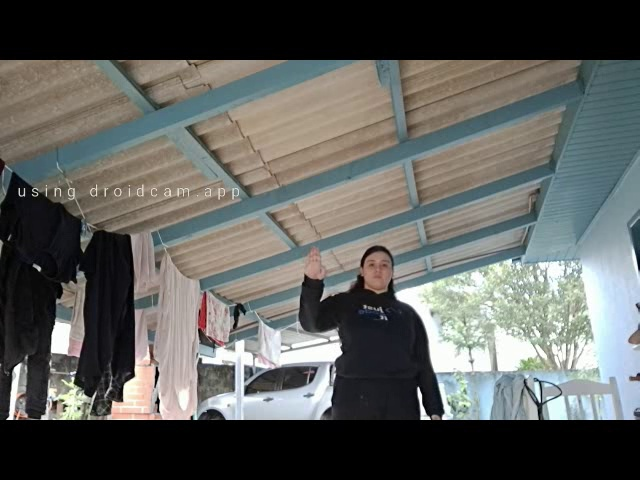MULHER: (347, 223, 426, 313)
